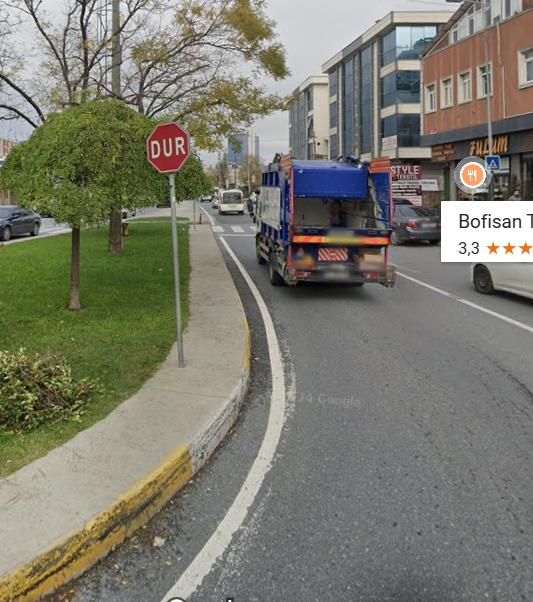stop: (145, 124, 191, 170)
